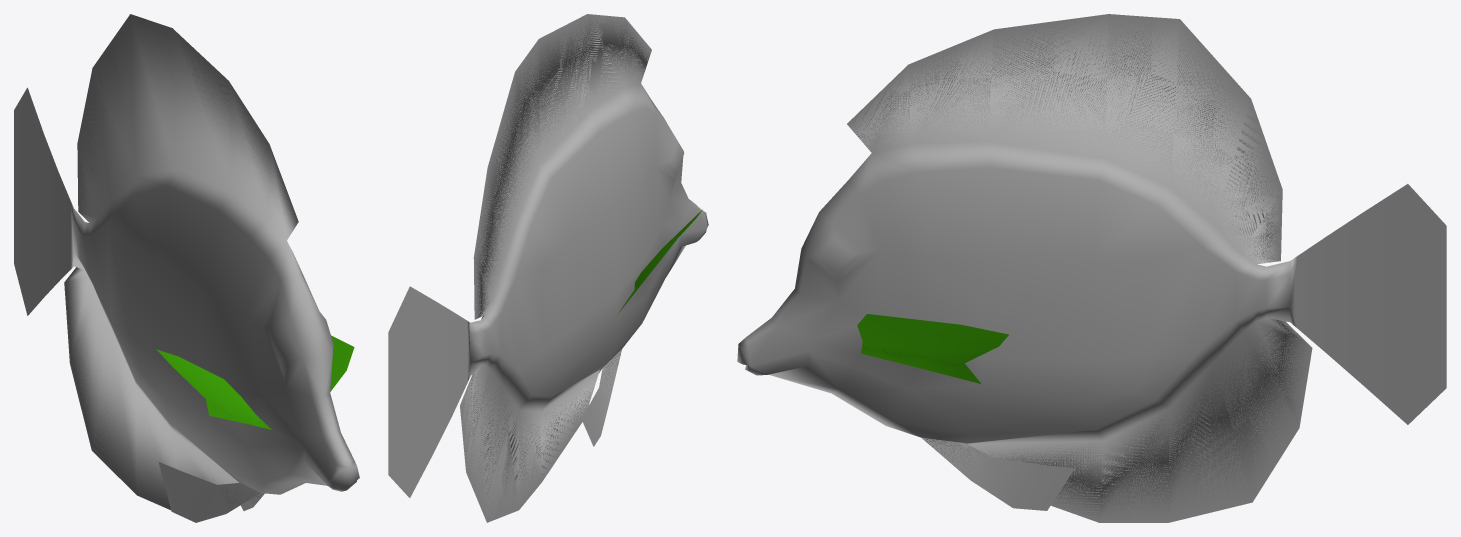
File: Acanthuridae_B_S.fbx
The picture shows the model from 3 angles, left to right: view 1: azimuth 30°, elevation 25°; view 2: azimuth 150°, elevation 25°; view 3: azimuth 270°, elevation 25°; orthographic projection. The views are drawn at different scales.
Visible parts, largest first — view 1: Acanthuridae_B_S_Mesh; view 2: Acanthuridae_B_S_Mesh; view 3: Acanthuridae_B_S_Mesh.
Part boxes in pixels (x1,y1,x2,y2): Acanthuridae_B_S_Mesh: (14, 14, 359, 522); Acanthuridae_B_S_Mesh: (388, 14, 708, 522); Acanthuridae_B_S_Mesh: (737, 14, 1446, 522).
Size of the model in its own units: 0.00228 by 0.00812 by 0.0102.
